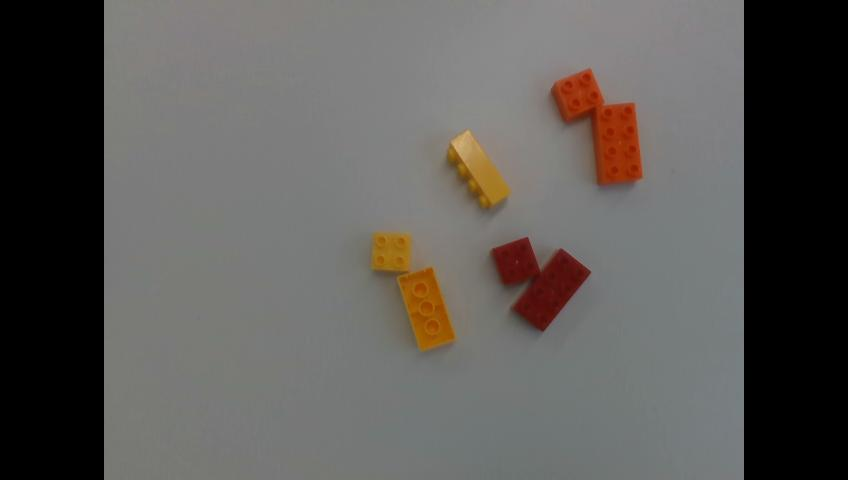2x2_orange: (551, 68, 603, 120)
2x2_red: (487, 235, 539, 284)
2x2_yellow: (371, 231, 408, 269)
4x2_orange: (593, 102, 641, 182)
4x2_red: (512, 244, 591, 332)
4x2_yellow: (448, 129, 511, 207), (399, 266, 455, 348)
